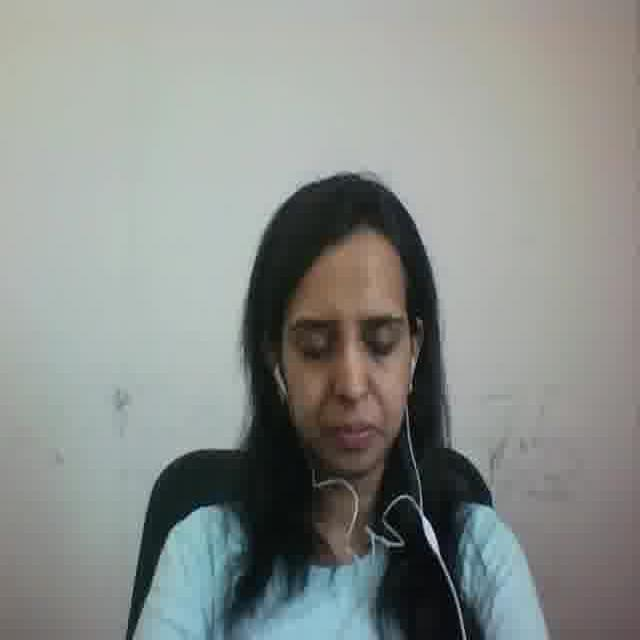Boredom: (277, 250, 410, 482)
